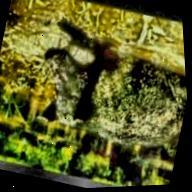boar: (25, 31, 191, 165)
